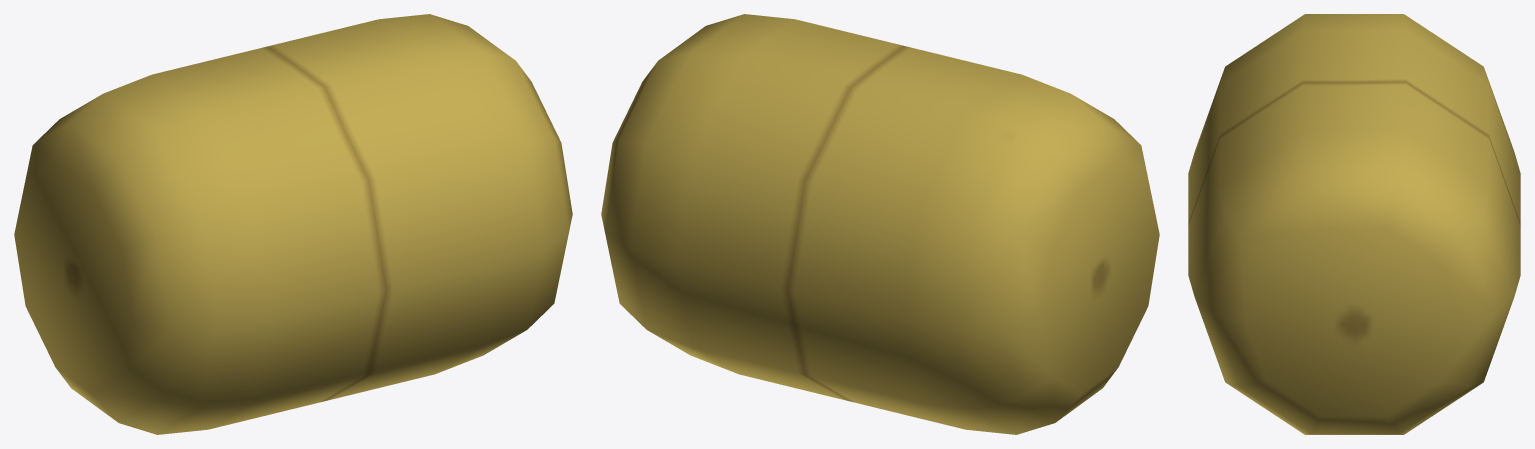
File: SM_Souvenirs01I.FBX
3 views of the same model, side by side, from view 1: azimuth 30°, elevation 25°; view 2: azimuth 150°, elevation 25°; view 3: azimuth 270°, elevation 25° (orthographic). The views are drawn at different scales.
Visible parts, largest first — view 1: SM_Souvenirs01I_LOD0; view 2: SM_Souvenirs01I_LOD0; view 3: SM_Souvenirs01I_LOD0.
Boxes of the visible parts, x1,y1,x2,y2 form: SM_Souvenirs01I_LOD0: (14, 14, 572, 434); SM_Souvenirs01I_LOD0: (601, 14, 1159, 434); SM_Souvenirs01I_LOD0: (1188, 14, 1520, 434).
Size of the model in its own units: 6.05 by 4.34 by 4.13.
